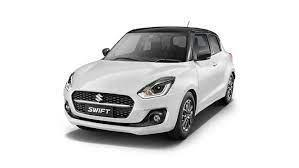Hatchback: (62, 25, 237, 140)
